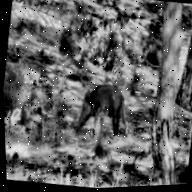boar: (67, 70, 140, 154)
